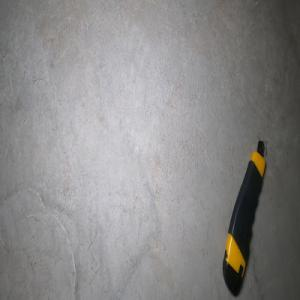Cutter: (222, 138, 267, 297)
